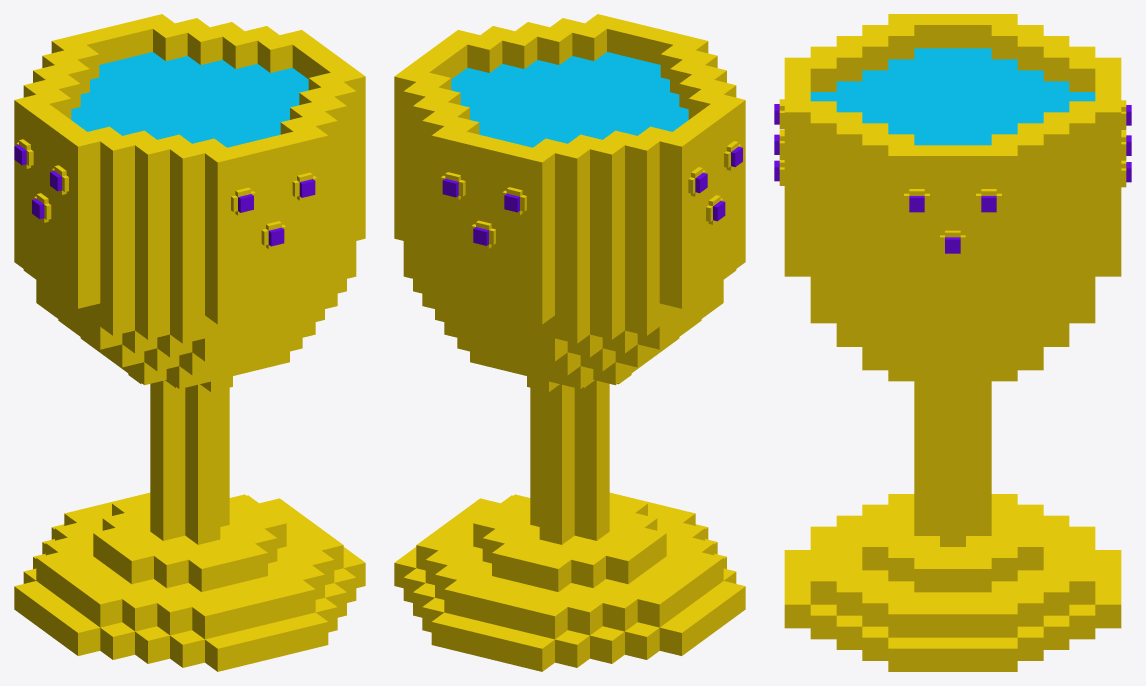
File: goblet.fbx
3 renders of one model, left to right at view 1: azimuth 30°, elevation 25°; view 2: azimuth 150°, elevation 25°; view 3: azimuth 270°, elevation 25°, orthographic.
Visible parts, largest first — view 1: pCube4, pCube6, pCube7, pCube5; view 2: pCube4, pCube7, pCube6, pCube5; view 3: pCube4, pCube6, pCube5, pCube7.
Boxes of the visible parts, x1,y1,x2,y2 form: pCube4: (14, 14, 365, 671); pCube6: (261, 221, 286, 249); pCube7: (292, 172, 317, 200); pCube5: (231, 187, 255, 215); pCube4: (394, 14, 745, 671); pCube7: (502, 187, 526, 214); pCube6: (471, 220, 495, 248); pCube5: (441, 172, 465, 200); pCube4: (784, 14, 1121, 671); pCube6: (940, 230, 965, 256); pCube5: (904, 189, 929, 214); pCube7: (976, 189, 1001, 214).
Bounding box in the file's own units: 13.8 × 22 × 13.8.
